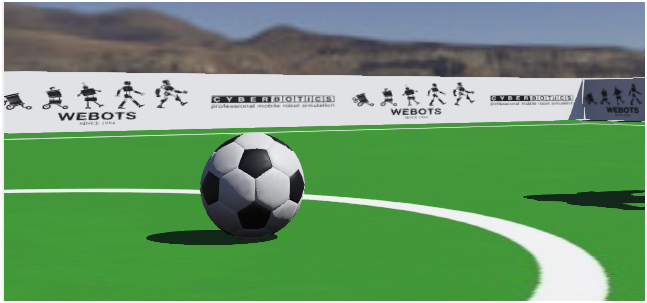Ball: (140, 124, 335, 246)
